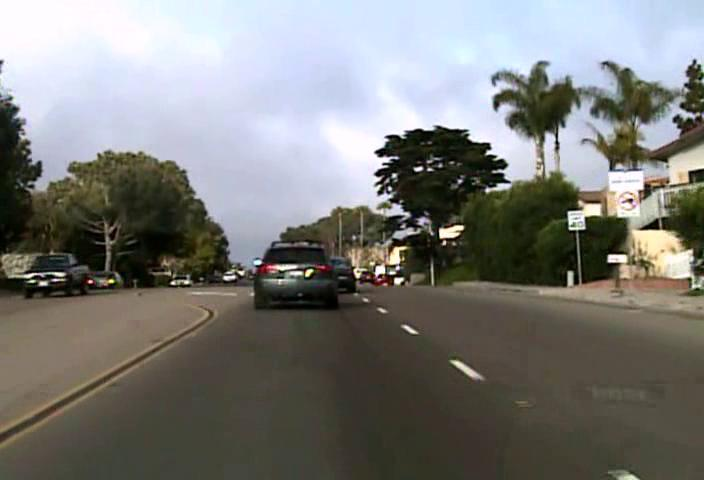speedLimit40: (567, 209, 586, 230)
